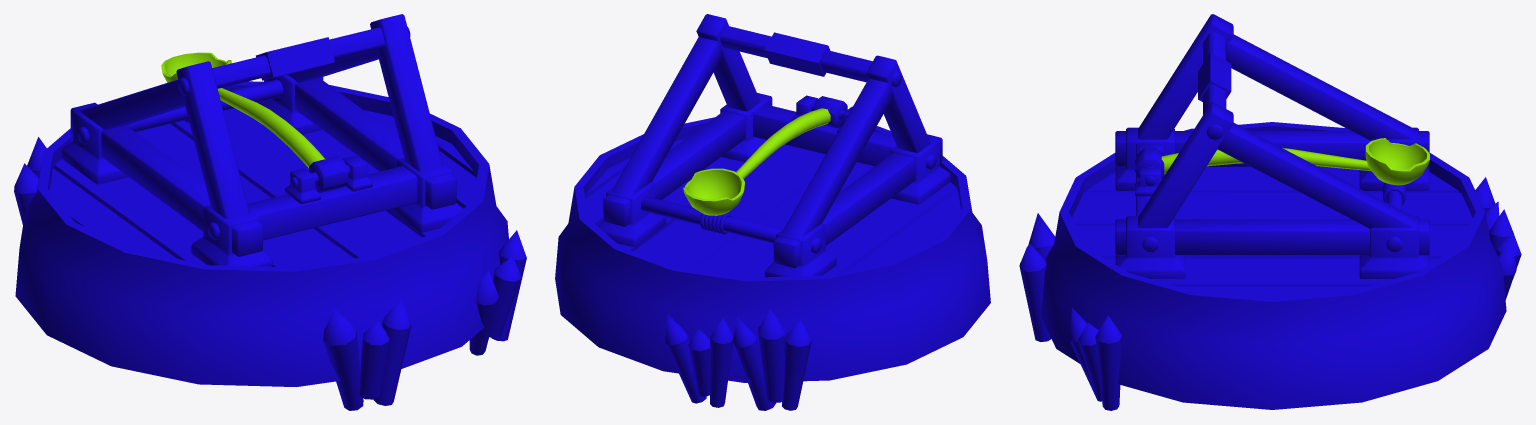
Rendered from katapultaLV2.fbx.
3 renders of one model, left to right at view 1: azimuth 30°, elevation 25°; view 2: azimuth 150°, elevation 25°; view 3: azimuth 270°, elevation 25°, orthographic. The views are drawn at different scales.
Visible parts, largest first — view 1: Cube.008, Cylinder.004; view 2: Cube.008, Cylinder.004; view 3: Cube.008, Cylinder.004.
Boxes of the visible parts, box(x1,y1,x2,y2) form: Cube.008: box(14, 14, 526, 410); Cylinder.004: box(161, 52, 325, 168); Cube.008: box(555, 14, 990, 410); Cylinder.004: box(683, 108, 830, 215); Cube.008: box(1019, 14, 1521, 410); Cylinder.004: box(1161, 138, 1429, 185).
Bounding box in the file's own units: 184 × 122 × 198.
